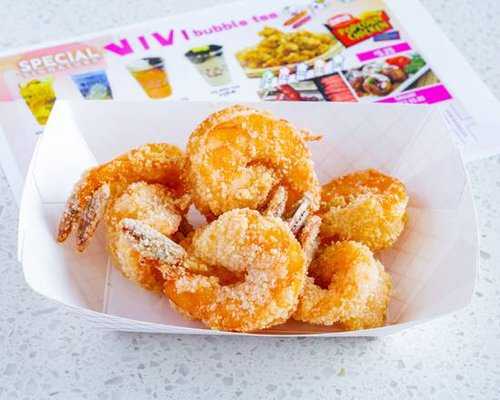curry: (6, 1, 496, 396)
salad: (162, 208, 305, 333), (292, 240, 393, 331), (313, 167, 410, 254)
